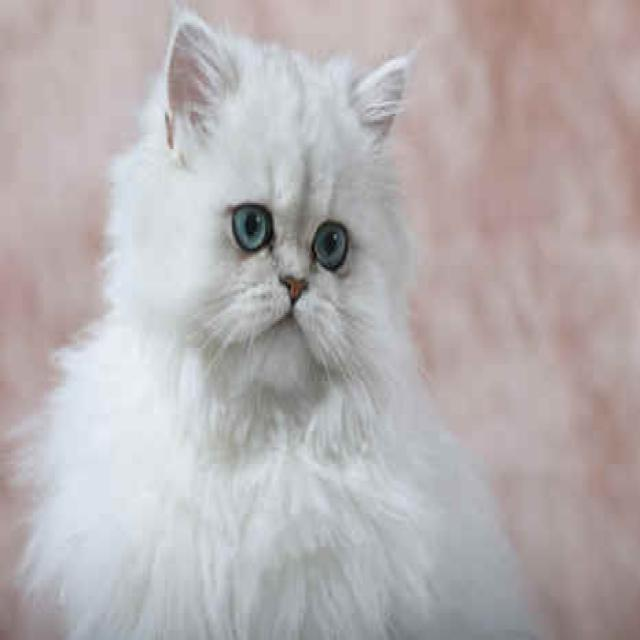Persian: (104, 2, 417, 449)
